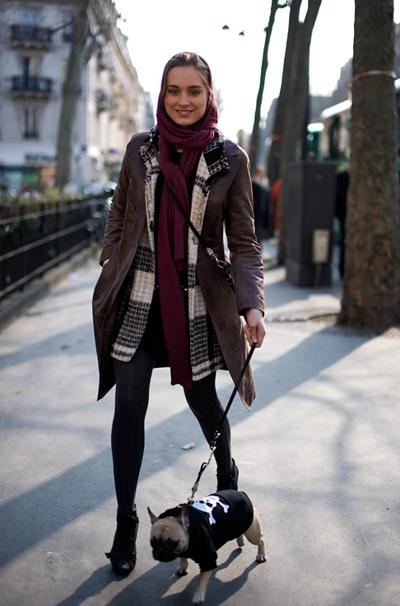person: (98, 51, 265, 575)
